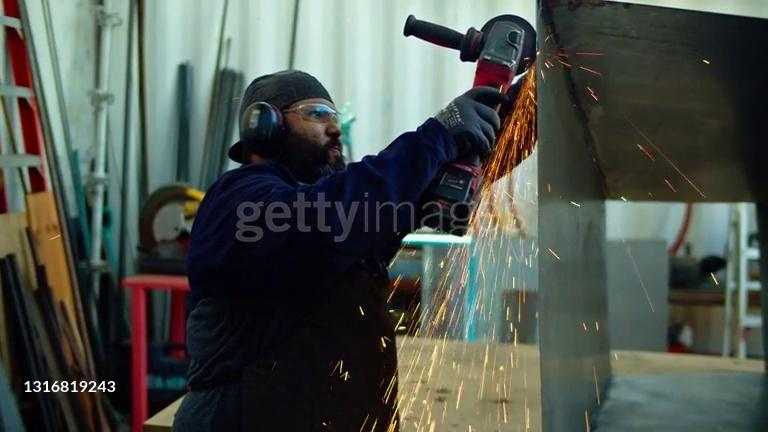person: (174, 71, 513, 426)
